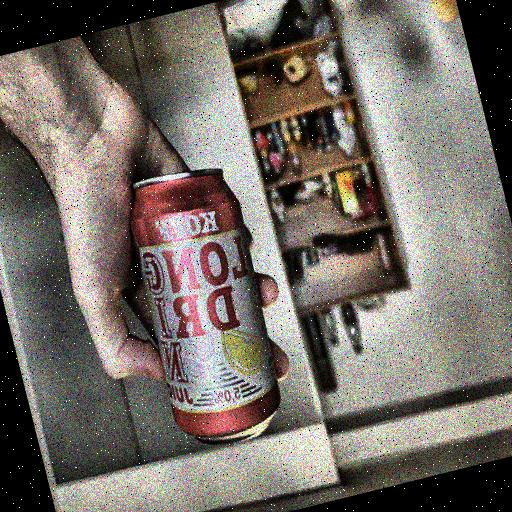koff: (115, 160, 298, 461)
